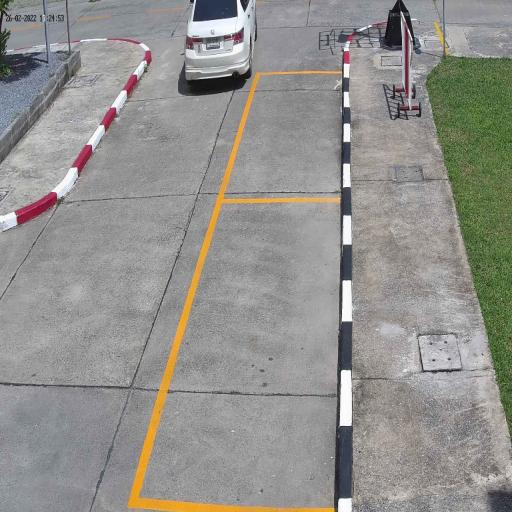car: (182, 0, 258, 89)
